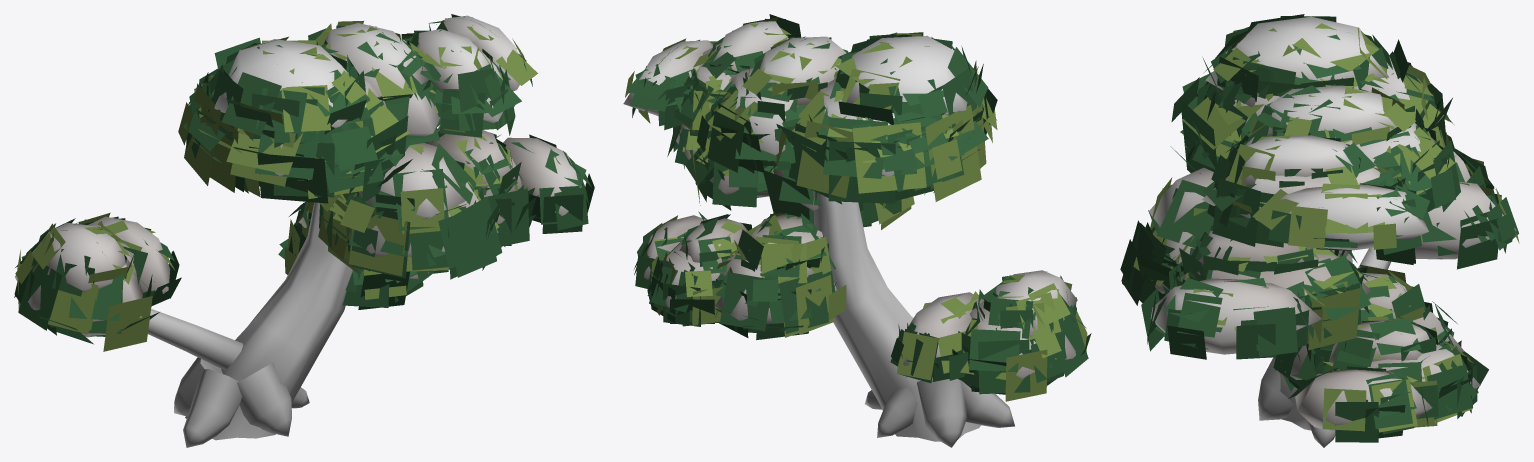
Rendered from sf_cypress_c.glb.
3 views of the same model, side by side, from view 1: azimuth 30°, elevation 25°; view 2: azimuth 150°, elevation 25°; view 3: azimuth 270°, elevation 25° (orthographic). The views are drawn at different scales.
Parts seen in each view (by area): view 1: Cypress_Leaves, Cypress_Crown, Cypress_Trunk; view 2: Cypress_Leaves, Cypress_Crown, Cypress_Trunk; view 3: Cypress_Leaves, Cypress_Crown, Cypress_Trunk.
Part boxes in pixels (left/top/right/bottom): Cypress_Leaves: left=14, top=14, right=594, bottom=351; Cypress_Crown: left=15, top=15, right=581, bottom=337; Cypress_Trunk: left=148, top=202, right=352, bottom=447; Cypress_Leaves: left=625, top=14, right=1091, bottom=401; Cypress_Crown: left=623, top=21, right=1077, bottom=378; Cypress_Trunk: left=813, top=190, right=1014, bottom=447; Cypress_Leaves: left=1120, top=14, right=1519, bottom=442; Cypress_Crown: left=1149, top=16, right=1516, bottom=431; Cypress_Trunk: left=1258, top=247, right=1390, bottom=447.
Size of the model in its own units: 9.89 by 7.28 by 6.52.
